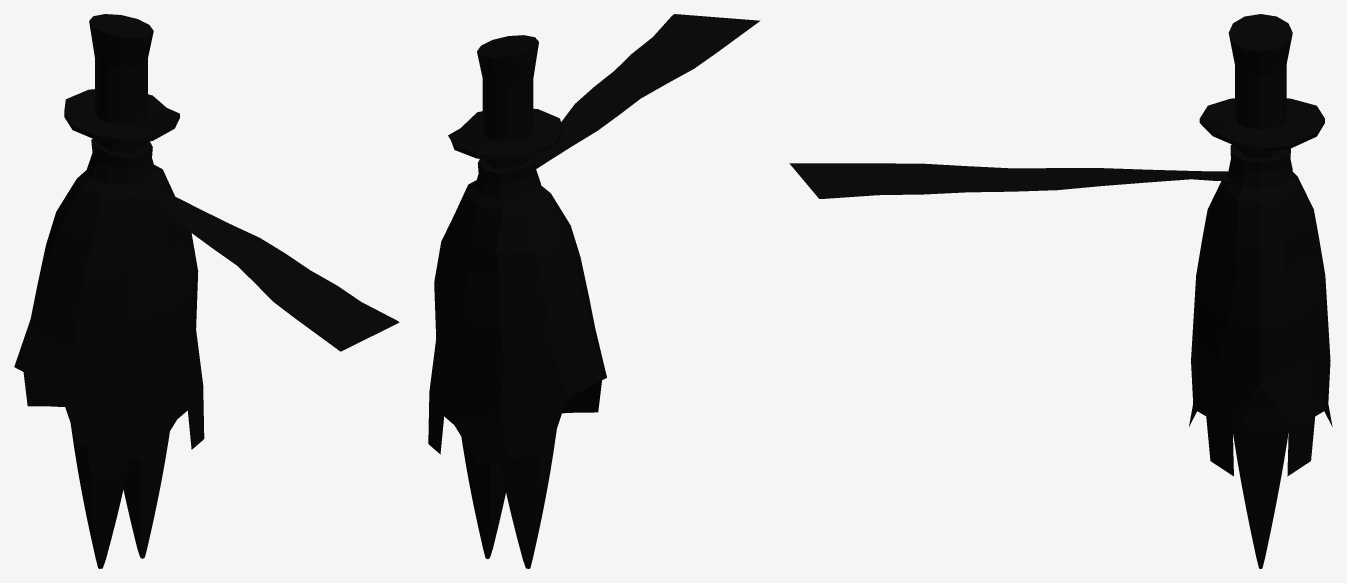
Rendered from PLAYER_MODEL_.obj.
3 renders of one model, left to right at view 1: azimuth 30°, elevation 25°; view 2: azimuth 150°, elevation 25°; view 3: azimuth 270°, elevation 25°, orthographic. The views are drawn at different scales.
Parts seen in each view (by area): view 1: PLAYER_MODEL_GRP PLAYER_CAP_MSH, PLAYER_MODEL_GRP PLAYER_SCARF2_MSH, PLAYER_MODEL_GRP PLAYER_HAT_MSH, PLAYER_BODY_MSH PLAYER_MODEL_GRP, PLAYER_MODEL_GRP PLAYER_SCARF_MSH; view 2: PLAYER_MODEL_GRP PLAYER_CAP_MSH, PLAYER_MODEL_GRP PLAYER_SCARF2_MSH, PLAYER_MODEL_GRP PLAYER_HAT_MSH, PLAYER_BODY_MSH PLAYER_MODEL_GRP, PLAYER_MODEL_GRP PLAYER_SCARF_MSH; view 3: PLAYER_MODEL_GRP PLAYER_CAP_MSH, PLAYER_MODEL_GRP PLAYER_SCARF2_MSH, PLAYER_MODEL_GRP PLAYER_HAT_MSH, PLAYER_BODY_MSH PLAYER_MODEL_GRP, PLAYER_MODEL_GRP PLAYER_SCARF_MSH.
Boxes of the visible parts, x1=… form: PLAYER_MODEL_GRP PLAYER_CAP_MSH: x1=14, y1=164, x2=204, y2=461; PLAYER_MODEL_GRP PLAYER_SCARF2_MSH: x1=133, y1=177, x2=399, y2=351; PLAYER_MODEL_GRP PLAYER_HAT_MSH: x1=64, y1=14, x2=179, y2=144; PLAYER_BODY_MSH PLAYER_MODEL_GRP: x1=70, y1=140, x2=169, y2=568; PLAYER_MODEL_GRP PLAYER_SCARF_MSH: x1=87, y1=139, x2=155, y2=184; PLAYER_MODEL_GRP PLAYER_CAP_MSH: x1=428, y1=180, x2=606, y2=465; PLAYER_MODEL_GRP PLAYER_SCARF2_MSH: x1=535, y1=14, x2=760, y2=168; PLAYER_MODEL_GRP PLAYER_HAT_MSH: x1=448, y1=35, x2=562, y2=161; PLAYER_BODY_MSH PLAYER_MODEL_GRP: x1=461, y1=156, x2=556, y2=568; PLAYER_MODEL_GRP PLAYER_SCARF_MSH: x1=475, y1=155, x2=540, y2=199; PLAYER_MODEL_GRP PLAYER_CAP_MSH: x1=1189, y1=172, x2=1332, y2=476; PLAYER_MODEL_GRP PLAYER_SCARF2_MSH: x1=789, y1=163, x2=1232, y2=198; PLAYER_MODEL_GRP PLAYER_HAT_MSH: x1=1199, y1=14, x2=1324, y2=152; PLAYER_BODY_MSH PLAYER_MODEL_GRP: x1=1232, y1=146, x2=1288, y2=568; PLAYER_MODEL_GRP PLAYER_SCARF_MSH: x1=1228, y1=144, x2=1292, y2=188.
Size of the model in its own units: 69.54 by 198 by 184.
